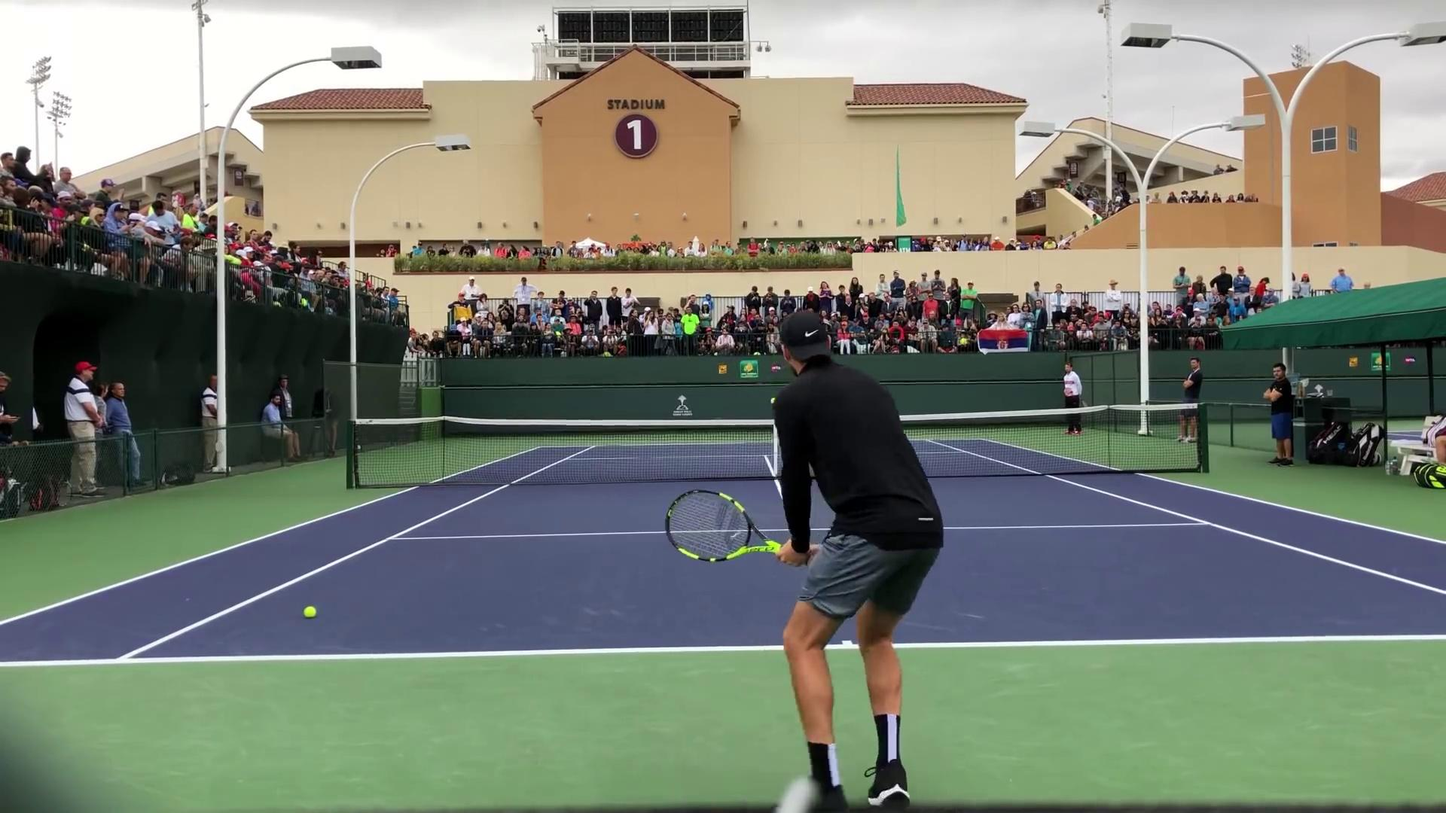ball: (304, 605, 317, 618)
